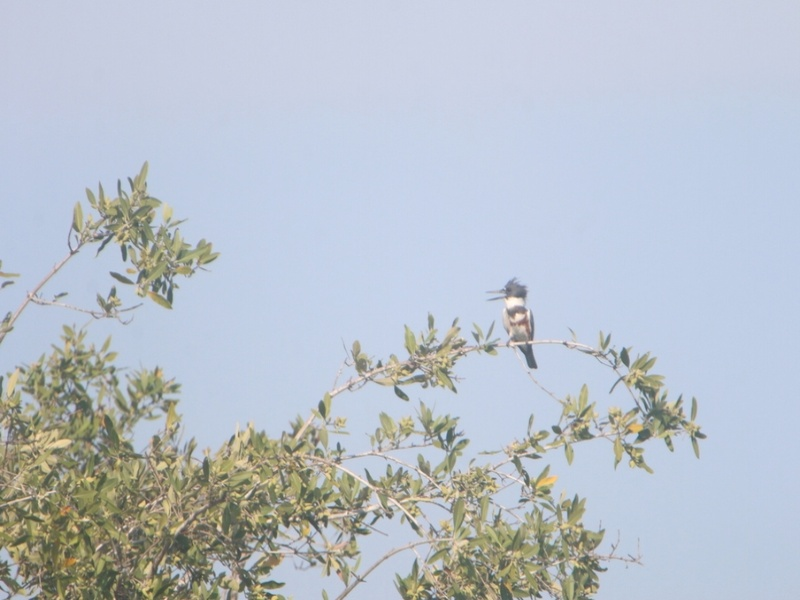kingfisher: (488, 274, 540, 370)
